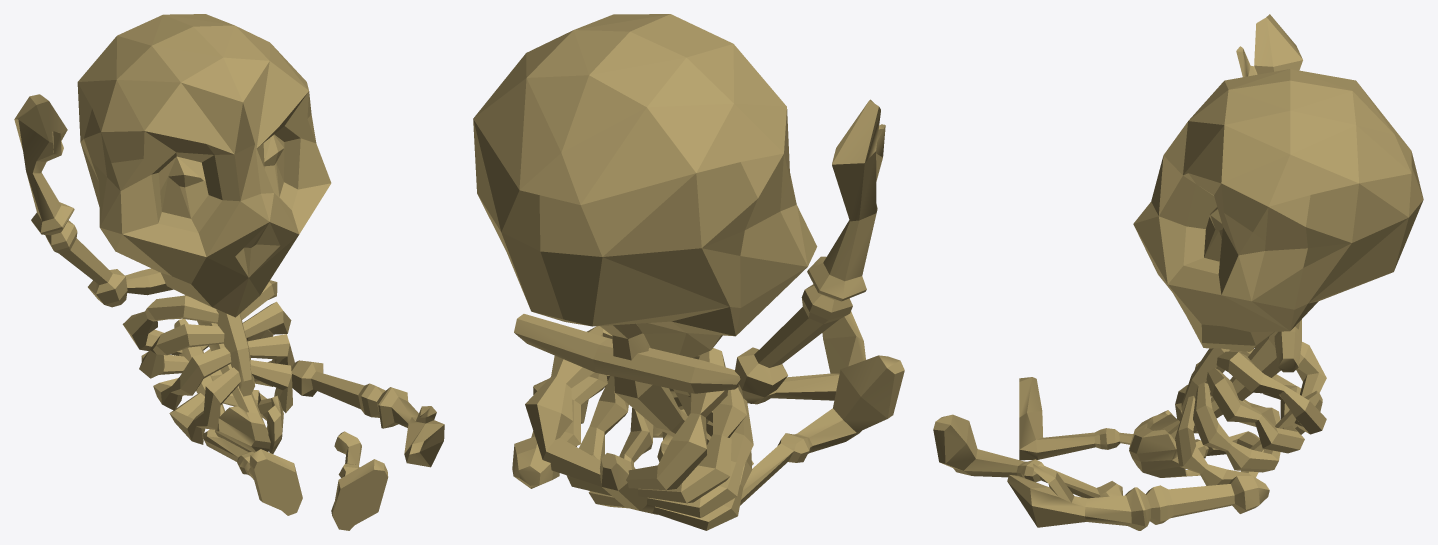
The model's file is skeleton.FBX.
3 views of the same model, side by side, from view 1: azimuth 30°, elevation 25°; view 2: azimuth 150°, elevation 25°; view 3: azimuth 270°, elevation 25° (orthographic). The views are drawn at different scales.
Visible parts, largest first — view 1: skull, ribs_rt, hand_rt, hand_lf, leg_lf, leg_rt, bip, shoulders, spline; view 2: skull, ribs_rt, hand_rt, leg_rt, shoulders, leg_lf, spline, hand_lf; view 3: skull, ribs_rt, hand_lf, leg_lf, leg_rt, bip, hand_rt, spline, shoulders.
Part boxes in pixels (<box>): skull: <box>77,14,331,317</box>; ribs_rt: <box>122,280,294,444</box>; hand_rt: <box>14,94,127,307</box>; hand_lf: <box>291,360,444,467</box>; leg_lf: <box>331,431,388,530</box>; leg_rt: <box>203,429,302,515</box>; bip: <box>215,395,283,453</box>; shoulders: <box>125,268,173,295</box>; spline: <box>185,295,268,434</box>; skull: <box>473,14,817,357</box>; ribs_rt: <box>525,326,753,530</box>; hand_rt: <box>735,99,885,403</box>; leg_rt: <box>740,355,904,505</box>; shoulders: <box>514,314,740,393</box>; leg_lf: <box>653,311,865,437</box>; spline: <box>602,323,711,444</box>; hand_lf: <box>512,375,609,488</box>; skull: <box>1133,69,1423,351</box>; ribs_rt: <box>1175,342,1326,485</box>; hand_lf: <box>1007,463,1269,530</box>; leg_lf: <box>933,414,1122,498</box>; leg_rt: <box>1019,377,1208,460</box>; bip: <box>1129,410,1200,477</box>; hand_rt: <box>1236,14,1302,77</box>; spline: <box>1168,321,1300,441</box>; shoulders: <box>1274,319,1301,372</box>.
Bounding box in the file's own units: 22.46 × 25.69 × 28.92.
